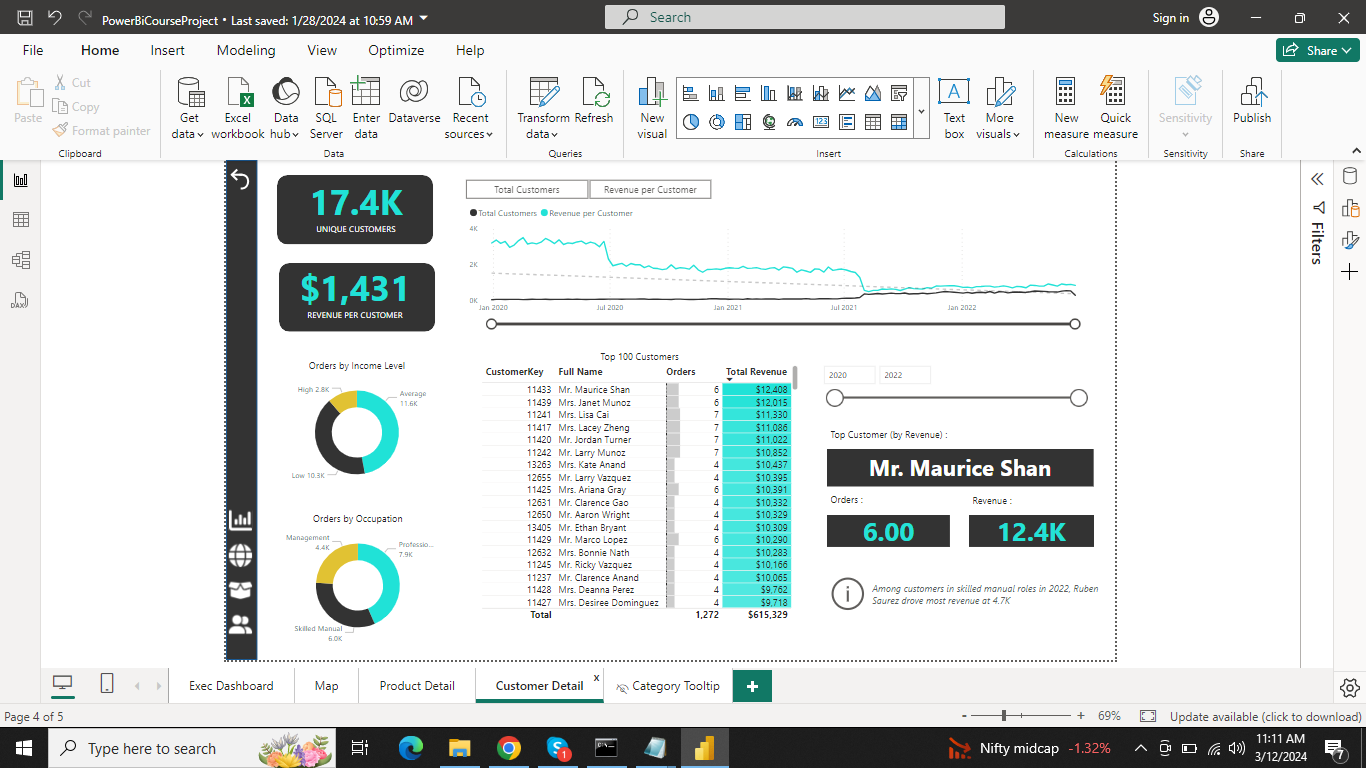

This screenshot's page, from the dashboard's own definition file:
{"tool":"powerbi","page":{"name":"Customer Detail","canvas":[1280,720],"ordinal":3},"visuals":[{"type":"shape","box":[0,0,45,720],"z":0},{"type":"actionButton","box":[0.6,497.5,45.2,41.6],"z":0,"group":"g1"},{"type":"shape","box":[73.3,22,224.9,100.2],"z":1000},{"type":"actionButton","box":[0.6,547.6,45.2,41.6],"z":1000,"group":"g1"},{"type":"card","fields":{"Values":["Measure Table.Total Customers"]},"box":[86.8,9.8,201.7,112.5],"z":2000},{"type":"actionButton","box":[0.6,597.7,45.2,41.6],"z":2000,"group":"g1"},{"type":"shape","box":[75.8,147.9,224.9,99],"z":3000},{"type":"actionButton","box":[0.6,647.9,45.2,41.6],"z":3000,"group":"g1"},{"type":"card","fields":{"Values":["Measure Table.Average Revenue per Customer"]},"box":[84.3,134.5,201.7,112.5],"z":4000},{"type":"lineChart","fields":{"Y":["Measure Table.Total Customers","Measure Table.Average Revenue per Customer"],"Category":["Calendar Lookup.Date of Hierarchy.Start of Year","Calendar Lookup.Date of Hierarchy.Start of Month","Calendar Lookup.Date of Hierarchy.Start of Week","Calendar Lookup.Date of Hierarchy.Date"]},"box":[345.9,56.2,903.4,190.7],"z":5000},{"type":"donutChart","title":"Orders by Income Level","fields":{"Category":["Customer Lookup.Income Level"],"Y":["Measure Table.Total Orders"]},"box":[70.9,286,235.9,194.4],"z":6000},{"type":"donutChart","title":"Orders by Occupation","fields":{"Y":["Measure Table.Total Orders"],"Category":["Customer Lookup.Occupation"]},"box":[72.1,507.3,235.9,194.4],"z":7000},{"type":"tableEx","title":"Top 100 Customers","fields":{"Values":["Customer Lookup.CustomerKey","Customer Lookup.Full Name","Measure Table.Total Orders","Measure Table.Total Revenue"]},"box":[363.1,273.8,465.7,393.6],"z":8000},{"type":"card","fields":{"Values":["Customer Lookup.Full Name (Customer Detail)"]},"box":[865.5,416.6,383.8,53.8],"z":9000},{"type":"textbox","box":[865.5,475.1,74.6,35.4],"z":10000},{"type":"textbox","box":[1069.6,476.3,74.6,35.4],"z":11000},{"type":"card","fields":{"Values":["Measure Table.Total Orders (Customer Detail)"]},"box":[865.5,510.5,177.2,46.5],"z":12000},{"type":"card","fields":{"Values":["Measure Table.Total Revenue (Customer Detail)"]},"box":[1069.6,510.5,179.7,46.5],"z":13000},{"type":"textbox","box":[865.5,381.2,238.4,31.8],"z":14000},{"type":"slicer","fields":{"Values":["Calendar Lookup.Year"]},"box":[848.4,286,401,74.6],"z":15000},{"type":"actionButton","box":[0,7.3,45.2,40.3],"z":16000},{"type":"actionButton","box":[865.5,594.1,399.7,59.9],"z":17000},{"type":"group","id":"g1","title":"Navigation Buttons","box":[0.6,497.5,45.2,191.9],"z":18000},{"type":"slicer","fields":{"Values":["Customer Metric Selection.Customer Metric Selection"]},"box":[319,22,403.4,34.2],"z":19500}]}

Visuals, with their boxes on the page's 1280x720 design canvas (x1, y1, x2, y2). These are canvas units, not pixel positions in the 1366x768 screenshot, which may show the page scaled, cropped or inside an application window:
shape: [x1=0, y1=0, x2=45, y2=720]
actionButton: [x1=1, y1=498, x2=46, y2=539]
shape: [x1=73, y1=22, x2=298, y2=122]
actionButton: [x1=1, y1=548, x2=46, y2=589]
card - Measure Table.Total Customers: [x1=87, y1=10, x2=288, y2=122]
actionButton: [x1=1, y1=598, x2=46, y2=639]
shape: [x1=76, y1=148, x2=301, y2=247]
actionButton: [x1=1, y1=648, x2=46, y2=690]
card - Measure Table.Average Revenue per Customer: [x1=84, y1=134, x2=286, y2=247]
lineChart - Measure Table.Total Customers x Measure Table.Average Revenue per Customer: [x1=346, y1=56, x2=1249, y2=247]
"Orders by Income Level" donutChart: [x1=71, y1=286, x2=307, y2=480]
"Orders by Occupation" donutChart: [x1=72, y1=507, x2=308, y2=702]
"Top 100 Customers" tableEx: [x1=363, y1=274, x2=829, y2=667]
card - Customer Lookup.Full Name (Customer Detail): [x1=866, y1=417, x2=1249, y2=470]
textbox: [x1=866, y1=475, x2=940, y2=510]
textbox: [x1=1070, y1=476, x2=1144, y2=512]
card - Measure Table.Total Orders (Customer Detail): [x1=866, y1=510, x2=1043, y2=557]
card - Measure Table.Total Revenue (Customer Detail): [x1=1070, y1=510, x2=1249, y2=557]
textbox: [x1=866, y1=381, x2=1104, y2=413]
slicer - Calendar Lookup.Year: [x1=848, y1=286, x2=1249, y2=361]
actionButton: [x1=0, y1=7, x2=45, y2=48]
actionButton: [x1=866, y1=594, x2=1265, y2=654]
"Navigation Buttons" group: [x1=1, y1=498, x2=46, y2=689]
slicer - Customer Metric Selection.Customer Metric Selection: [x1=319, y1=22, x2=722, y2=56]
